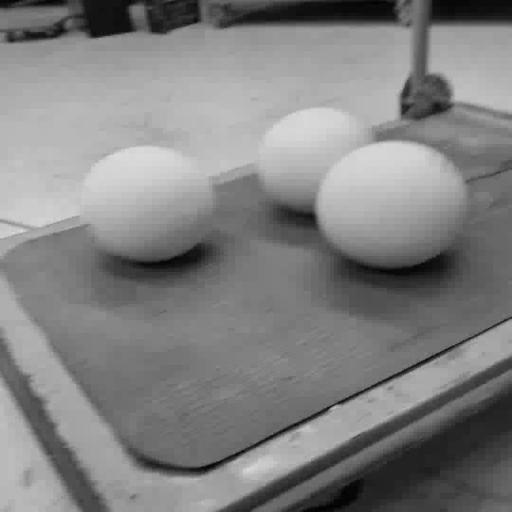fuel: (316, 141, 466, 269), (79, 146, 215, 262), (258, 108, 374, 213)
